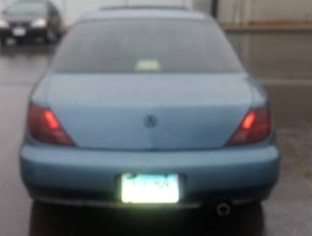acura: (17, 8, 284, 212)
